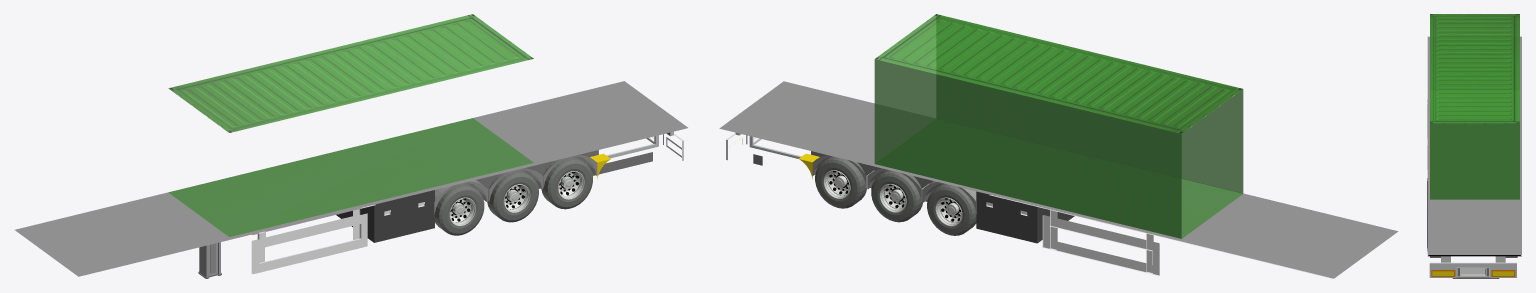
The model's file is trailer_ms.glb.
The picture shows the model from 3 angles, left to right: view 1: azimuth 30°, elevation 25°; view 2: azimuth 150°, elevation 25°; view 3: azimuth 270°, elevation 25°; orthographic projection. The views are drawn at different scales.
Visible parts, largest first — view 1: bodycar, 平面.011; view 2: 平面.011, bodycar; view 3: 平面.011, bodycar.
Boxes of the visible parts, bbox=[...] form: bodycar: bbox=[15, 81, 687, 278]; 平面.011: bbox=[168, 14, 533, 236]; 平面.011: bbox=[874, 14, 1243, 238]; bodycar: bbox=[719, 81, 1398, 278]; 平面.011: bbox=[1430, 14, 1519, 199]; bodycar: bbox=[1427, 36, 1521, 278].
Size of the model in its own units: 9.22 by 2.28 by 1.69.
4 materials, 4 textured.
